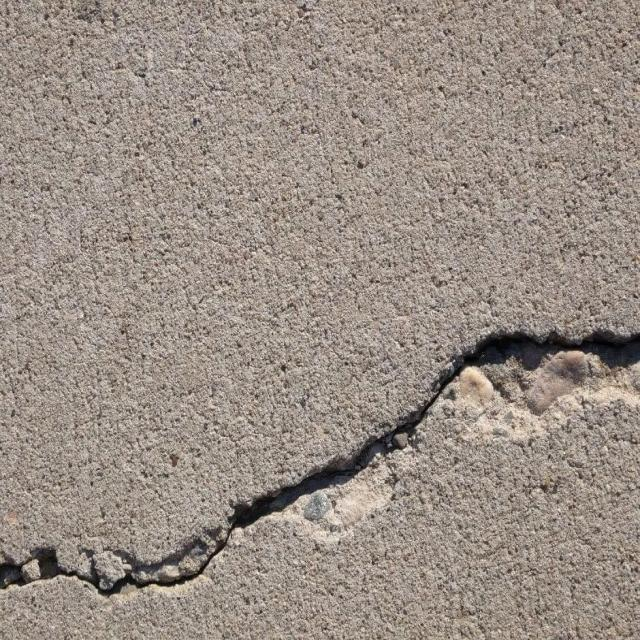horizontal crack: (1, 320, 640, 605)
